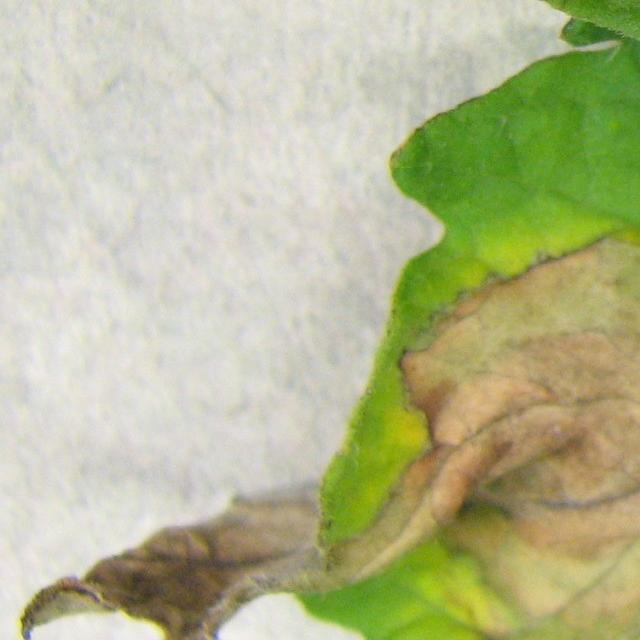Tomato leaf late blight: (2, 103, 640, 640), (0, 0, 640, 222)
